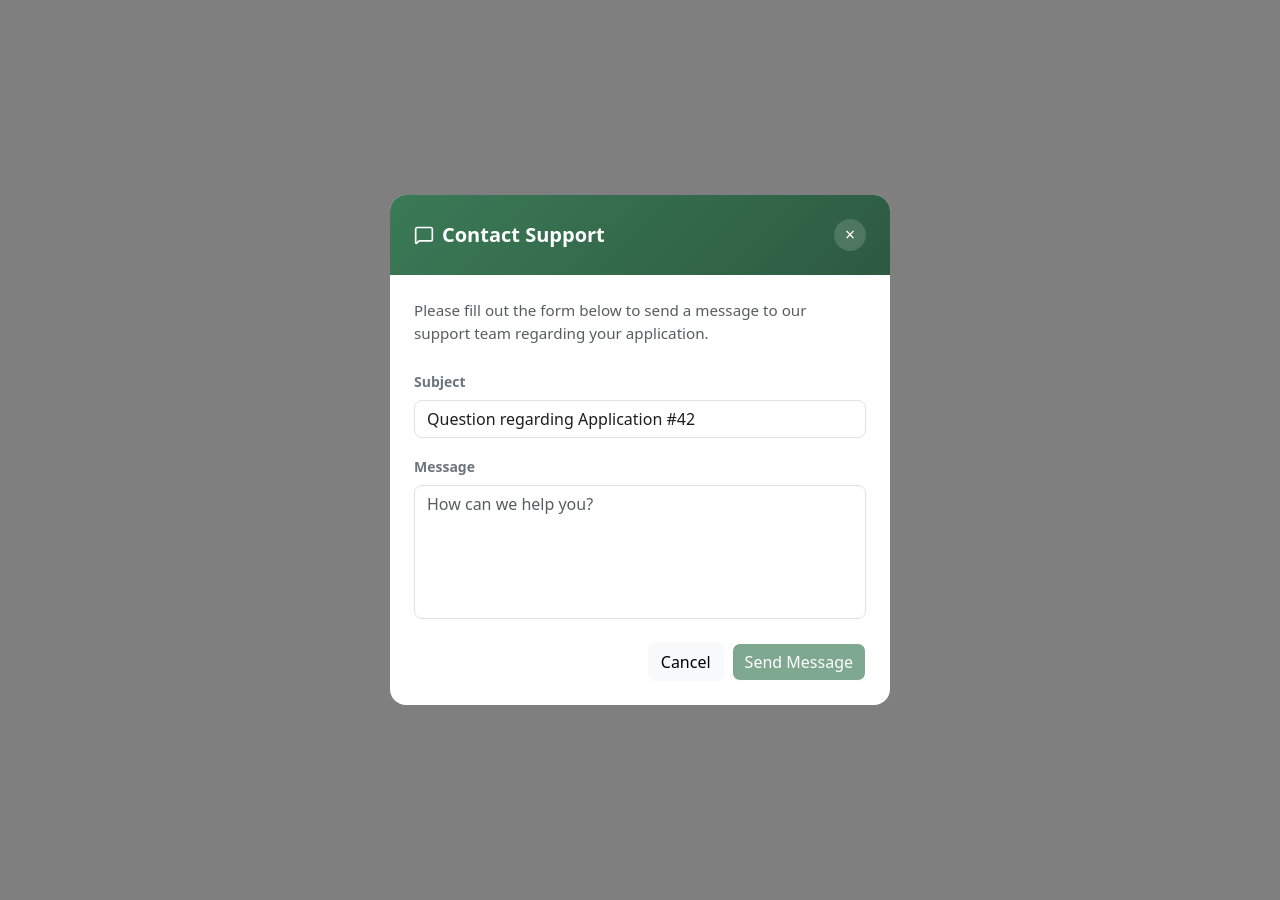
Test: ContactSupportModal › able to submit form successfully and shows expected success state
The image size is (1280, 900).
Type "I need help with my application" into the text box labelled "Message" at point(640, 552), box [414,485,866,619]
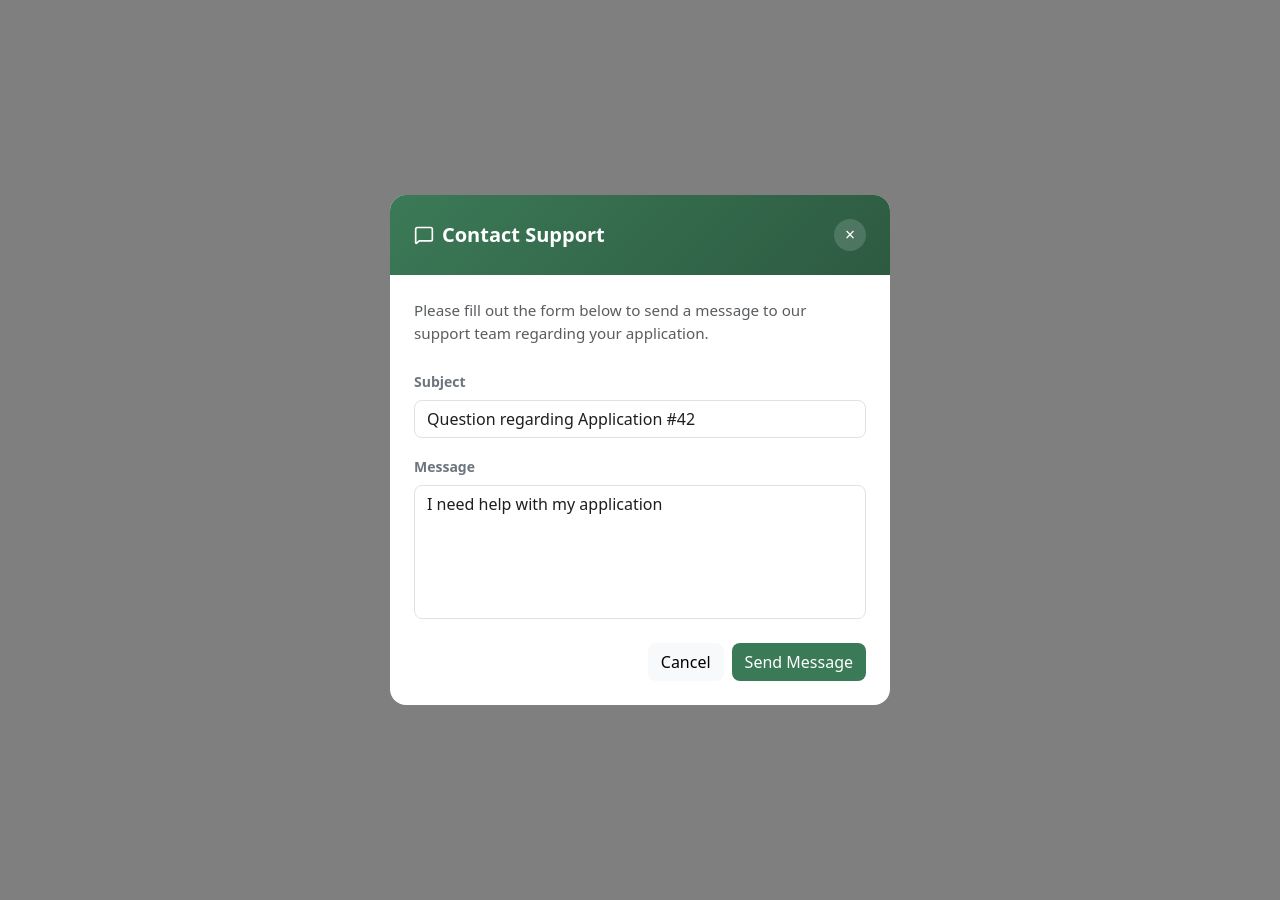
Click the button "Send Message" at point(799, 662), box [732,643,866,681]
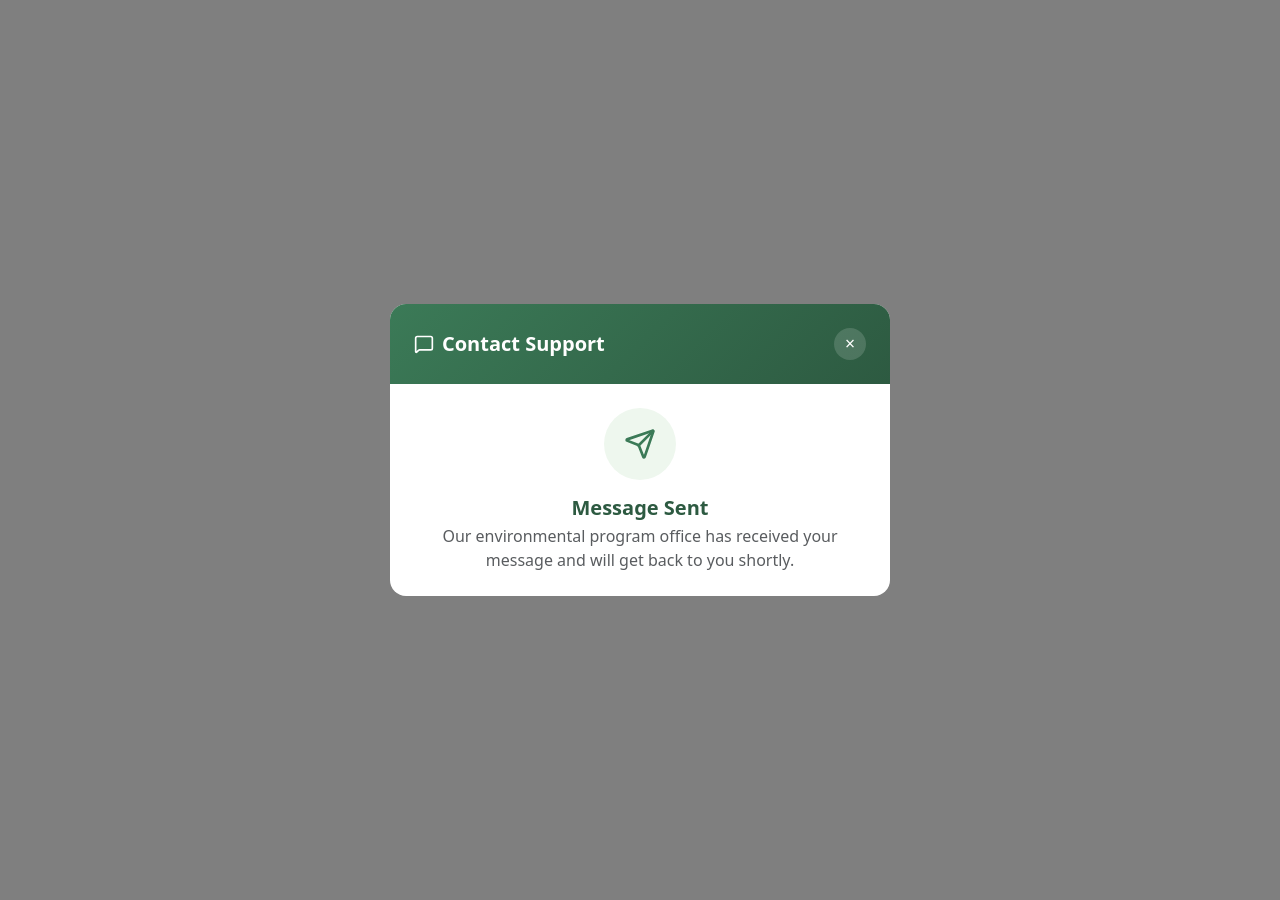
Expected: the heading "Message Sent" is shown, [572,494,708,521]
